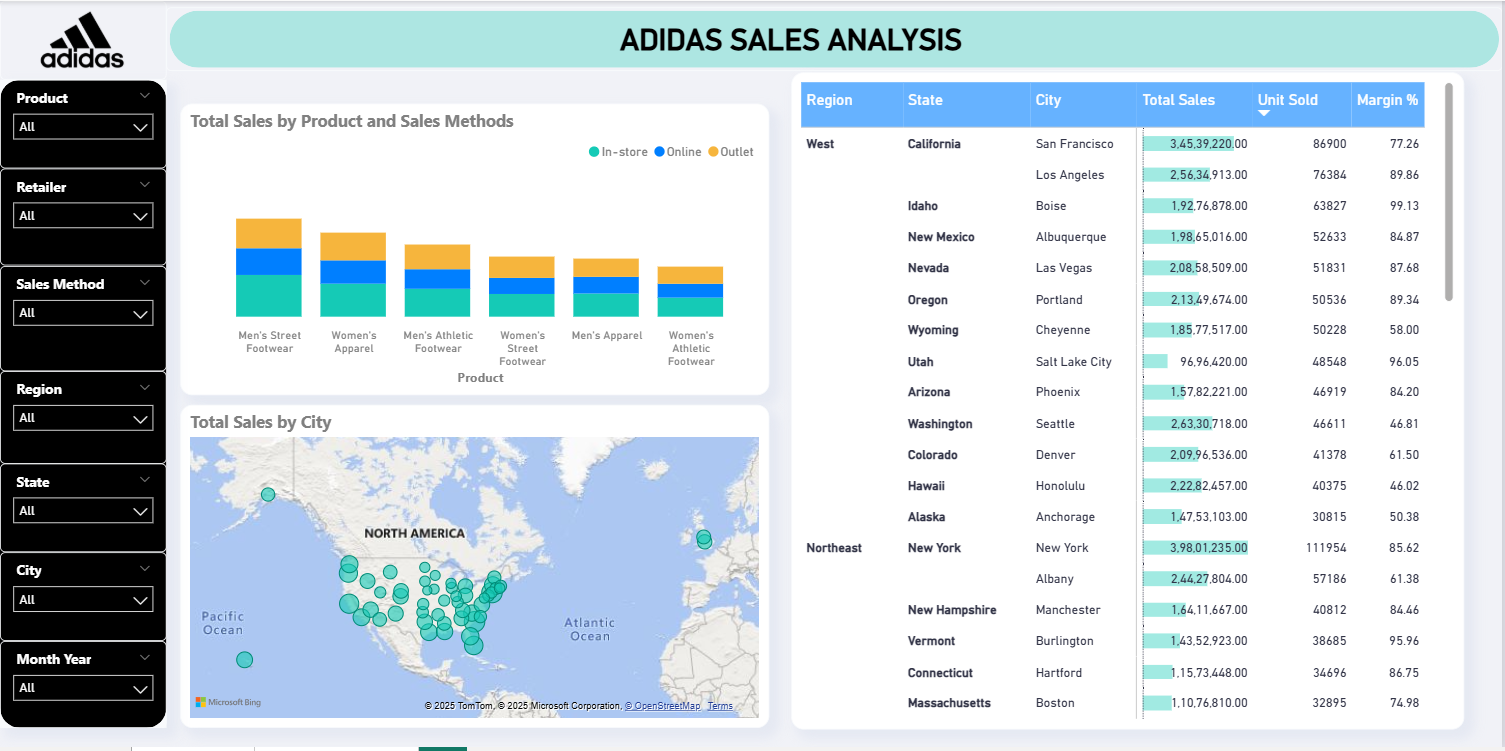

The dashboard page shown, as its layout file describes it:
{"tool":"powerbi","page":{"name":"SALES ANALYSIS","canvas":[1450,720],"ordinal":1},"visuals":[{"type":"columnChart","title":"Total Sales by Product and Sales Methods","fields":{"Y":["Measures_.Total Sales"],"Category":["Data Sales Adidas.Product"],"Series":["Data Sales Adidas.Sales Method"]},"box":[173.9,98.8,569,281.9],"z":4000},{"type":"map","fields":{"Category":["Data Sales Adidas.City"],"Size":["Measures_.Total Sales"]},"box":[173.9,389.9,569,312.2],"z":5000},{"type":"pivotTable","title":"           TOP 5 PERFORMING CITY","fields":{"Rows":["Data Sales Adidas.Region","Data Sales Adidas.State","Data Sales Adidas.City"],"Values":["Measures_.Total Sales","Measures_.Unit Sold","Sum(Data Sales Adidas.Operating Margin)"]},"box":[763.2,68.4,649.8,634.2],"z":8000},{"type":"shape","box":[0,76.4,160.7,625.7],"z":9000},{"type":"slicer","fields":{"Values":["Data Sales Adidas.Product"]},"box":[0,76.4,160.7,85.6],"z":10000},{"type":"slicer","fields":{"Values":["Data Sales Adidas.Retailer"]},"box":[0,162,160.7,93.5],"z":11000},{"type":"slicer","fields":{"Values":["Data Sales Adidas.Sales Method"]},"box":[0,255.5,160.7,101.4],"z":12000},{"type":"slicer","fields":{"Values":["Data Sales Adidas.Region"]},"box":[0,357,160.7,89.6],"z":13000},{"type":"slicer","fields":{"Values":["Data Sales Adidas.State"]},"box":[0,446.5,160.7,85.6],"z":14000},{"type":"slicer","fields":{"Values":["Data Sales Adidas.City"]},"box":[0,532.2,160.7,85.6],"z":15000},{"type":"slicer","fields":{"Values":["Data Sales Adidas.Month Year"]},"box":[0,617.8,160.7,84.3],"z":16000},{"type":"image","box":[0,0,160.7,76.4],"z":17000},{"type":"shape","box":[160.7,6.6,1289.6,61.9],"z":18000},{"type":"textbox","box":[429.4,15.8,667.8,52.7],"z":19000}]}

Visuals, with their boxes in screenshot pixels (x1, y1, x2, y2), scaled from the page's 1450x720 canvas onto the 1505x751 screenshot:
"Total Sales by Product and Sales Methods" columnChart: 180 103 771 397
map - Data Sales Adidas.City x Measures_.Total Sales: 180 407 771 732
"           TOP 5 PERFORMING CITY" pivotTable: 792 71 1467 733
shape: 0 80 167 732
slicer - Data Sales Adidas.Product: 0 80 167 169
slicer - Data Sales Adidas.Retailer: 0 169 167 267
slicer - Data Sales Adidas.Sales Method: 0 267 167 372
slicer - Data Sales Adidas.Region: 0 372 167 466
slicer - Data Sales Adidas.State: 0 466 167 555
slicer - Data Sales Adidas.City: 0 555 167 644
slicer - Data Sales Adidas.Month Year: 0 644 167 732
image: 0 0 167 80
shape: 167 7 1504 71
textbox: 446 16 1139 71
